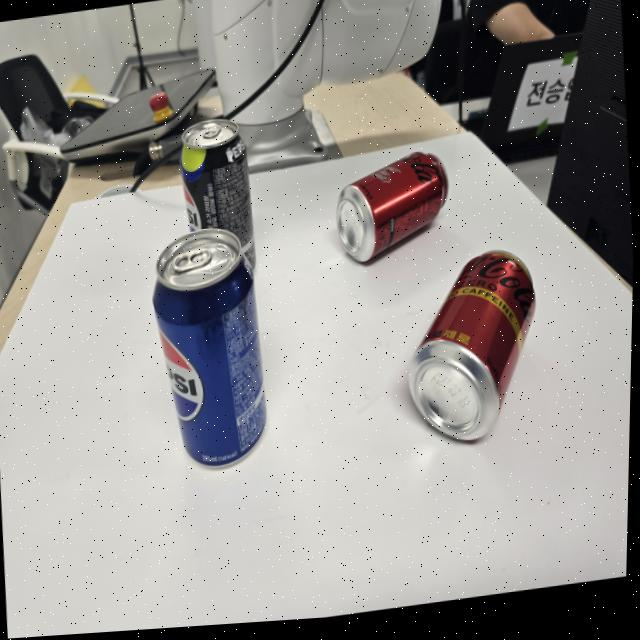can_coke_decaf: (408, 251, 534, 439)
can_coke_zero: (336, 151, 448, 261)
can_pepsi: (153, 228, 266, 466)
can_pepsi_zero: (179, 119, 255, 266)
